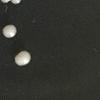white: (14, 49, 31, 66), (2, 24, 17, 38), (0, 0, 23, 6)
